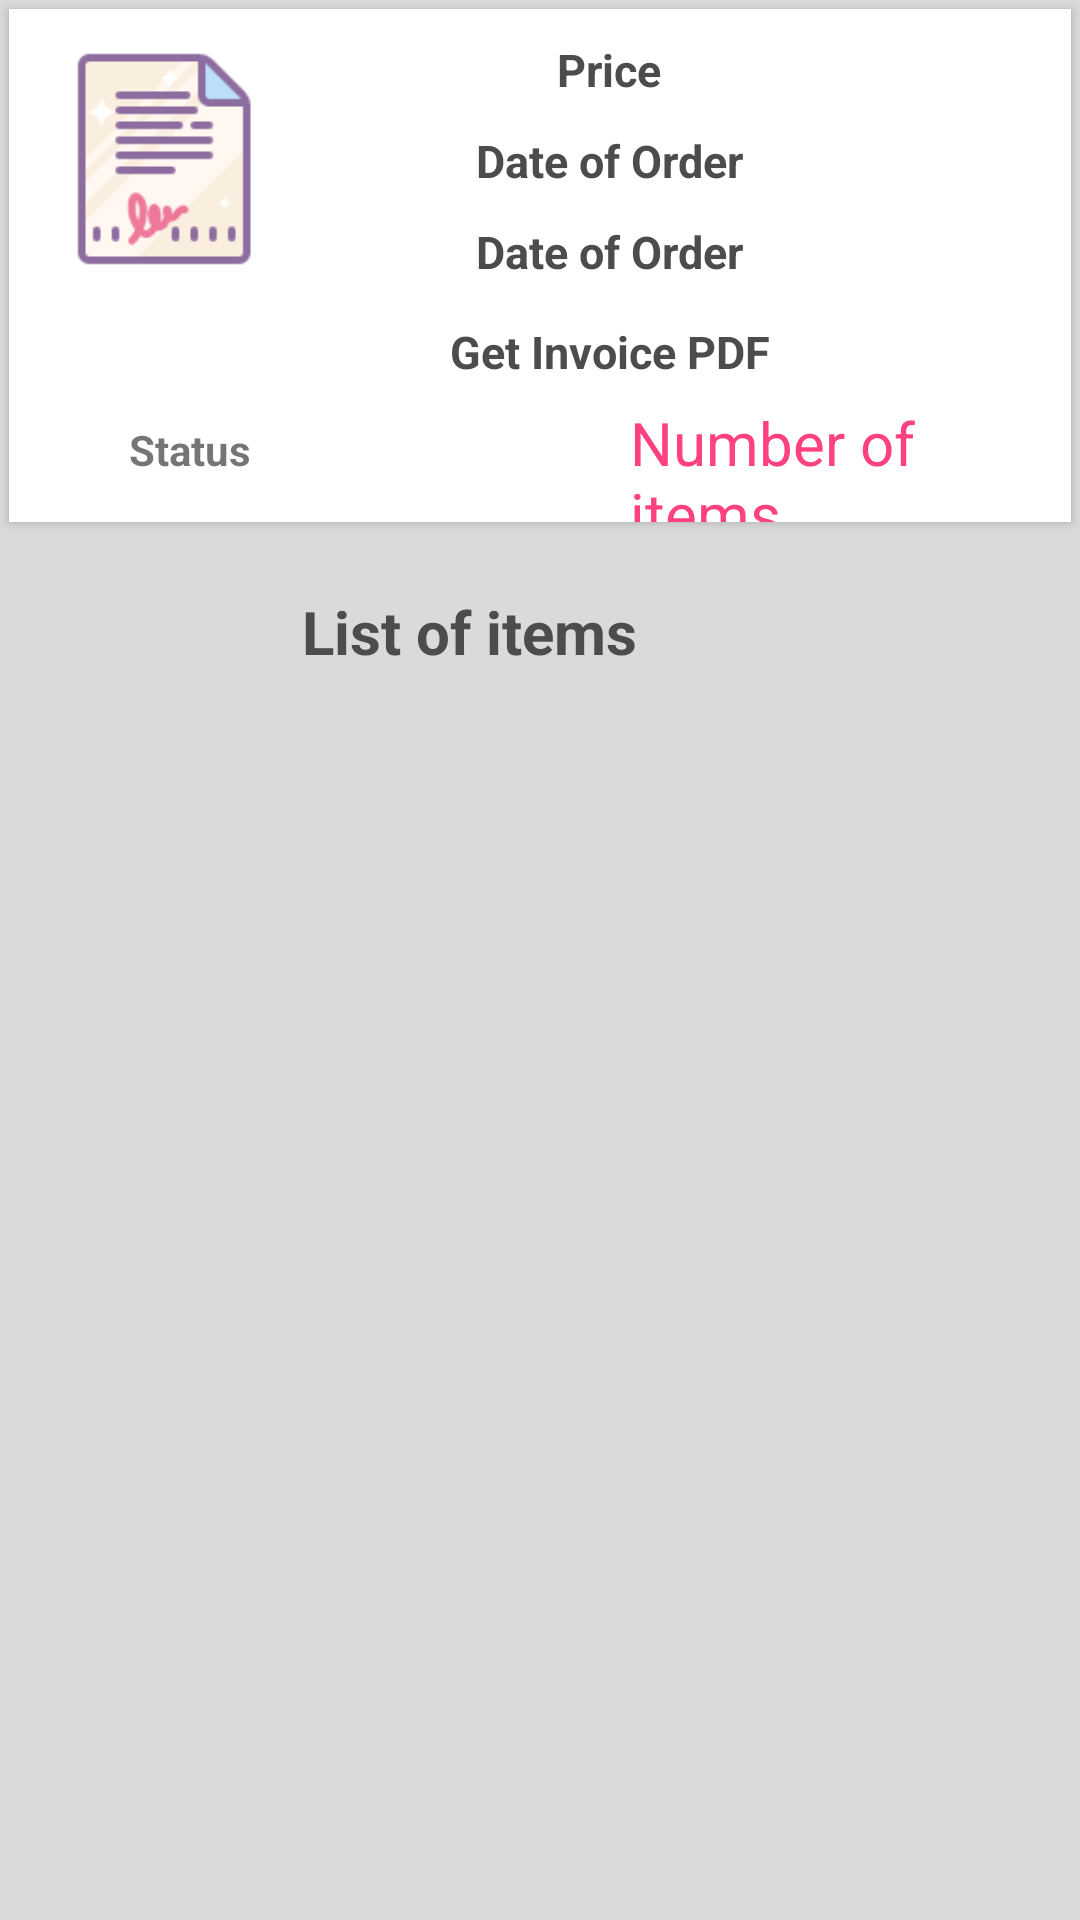

Icon bounding boxes for this 1080w x 1920h phone screenshot, format Rect(x1, y1, x2, y2):
inovice: Rect(77, 53, 251, 265)
